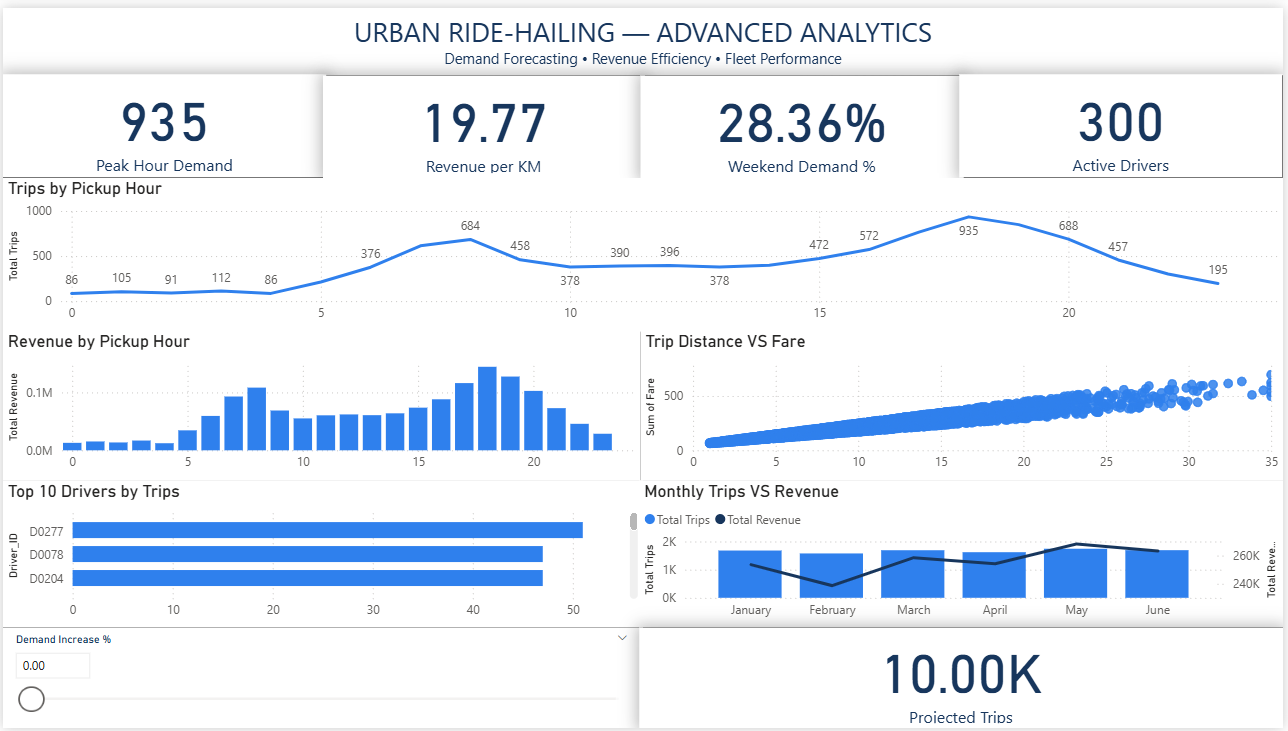

The dashboard page shown, as its layout file describes it:
{"tool":"powerbi","page":{"name":"Advanced Analytics","canvas":[1280,720],"ordinal":4},"visuals":[{"type":"textbox","box":[0,0,1280,67.1],"z":0},{"type":"card","fields":{"Values":["FactTrips.Peak Hour Demand"]},"box":[0,66.7,323.3,103.3],"z":1000},{"type":"card","fields":{"Values":["FactTrips.Revenue per KM"]},"box":[320,67.1,321.4,102.9],"z":2000},{"type":"card","fields":{"Values":["FactTrips.Weekend Demand %"]},"box":[637.1,67.1,322.9,102.9],"z":3000},{"type":"card","fields":{"Values":["FactTrips.Active Drivers"]},"box":[956.7,66.7,323.3,103.3],"z":4000},{"type":"lineChart","title":"Trips by Pickup Hour","fields":{"Category":["FactTrips.Pickup_Hour"],"Y":["FactTrips.Total Trips"]},"box":[0,170,1280,153.3],"z":5000},{"type":"clusteredColumnChart","title":"Revenue by Pickup Hour","fields":{"Category":["FactTrips.Pickup_Hour"],"Y":["FactTrips.Total Revenue"]},"box":[0,322.5,637.5,150],"z":6000},{"type":"scatterChart","title":"Trip Distance VS Fare","fields":{"X":["Sum(FactTrips.Distance_KM)"],"Category":["FactTrips.Trip_ID"],"Y":["Sum(FactTrips.Fare)"]},"box":[637.1,322.9,642.9,150],"z":7000},{"type":"clusteredBarChart","title":"Top 10 Drivers by Trips","fields":{"Y":["FactTrips.Total Trips"],"Category":["DimDriver.Driver_ID"]},"box":[0,472.5,640,147.5],"z":8000},{"type":"lineClusteredColumnComboChart","title":"Monthly Trips VS Revenue","fields":{"Category":["DimDate.Month Name"],"Y":["FactTrips.Total Trips"],"Y2":["FactTrips.Total Revenue"]},"box":[636.2,472.5,643.8,147.5],"z":9000},{"type":"slicer","fields":{"Values":["Demand number %.Demand number %"]},"box":[0,620,636.7,100],"z":10000},{"type":"card","fields":{"Values":["Demand number %.Projected Trips"]},"box":[636.2,620,643.8,100],"z":11000}]}

Visuals, with their boxes in screenshot pixels (x1, y1, x2, y2), scaled from the page's 1280x720 canvas onto the 1288x731 screenshot:
textbox: (left=0, top=0, right=1287, bottom=68)
card - FactTrips.Peak Hour Demand: (left=0, top=68, right=325, bottom=173)
card - FactTrips.Revenue per KM: (left=322, top=68, right=645, bottom=173)
card - FactTrips.Weekend Demand %: (left=641, top=68, right=966, bottom=173)
card - FactTrips.Active Drivers: (left=963, top=68, right=1287, bottom=173)
"Trips by Pickup Hour" lineChart: (left=0, top=173, right=1287, bottom=328)
"Revenue by Pickup Hour" clusteredColumnChart: (left=0, top=327, right=641, bottom=480)
"Trip Distance VS Fare" scatterChart: (left=641, top=328, right=1287, bottom=480)
"Top 10 Drivers by Trips" clusteredBarChart: (left=0, top=480, right=644, bottom=629)
"Monthly Trips VS Revenue" lineClusteredColumnComboChart: (left=640, top=480, right=1287, bottom=629)
slicer - Demand number %.Demand number %: (left=0, top=629, right=641, bottom=730)
card - Demand number %.Projected Trips: (left=640, top=629, right=1287, bottom=730)
